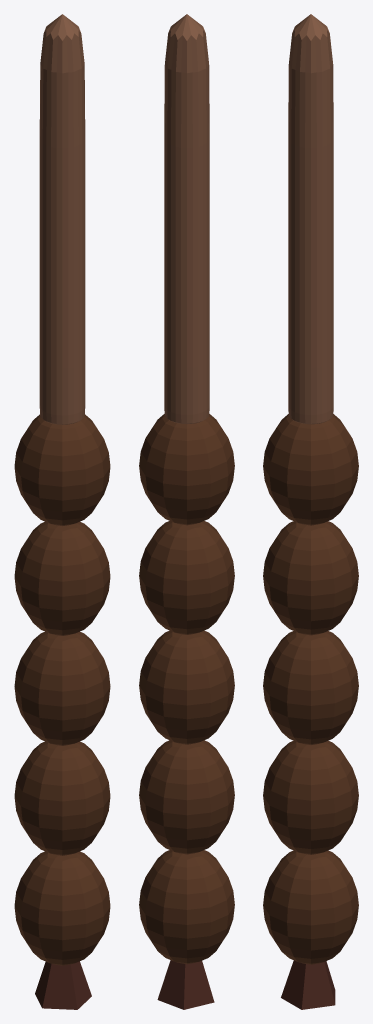
Rendered from Wand 218.glb.
3 renders of one model, left to right at view 1: azimuth 30°, elevation 25°; view 2: azimuth 210°, elevation 25°; view 3: azimuth 270°, elevation 25°, orthographic.
Visible parts, largest first — view 1: GeneratedWand; view 2: GeneratedWand; view 3: GeneratedWand.
Boxes of the visible parts, bbox=[...] form: GeneratedWand: bbox=[14, 14, 110, 1009]; GeneratedWand: bbox=[139, 14, 234, 1009]; GeneratedWand: bbox=[263, 14, 358, 1009].
Size of the model in its own units: 0.0447 by 0.5082 by 0.0449.
